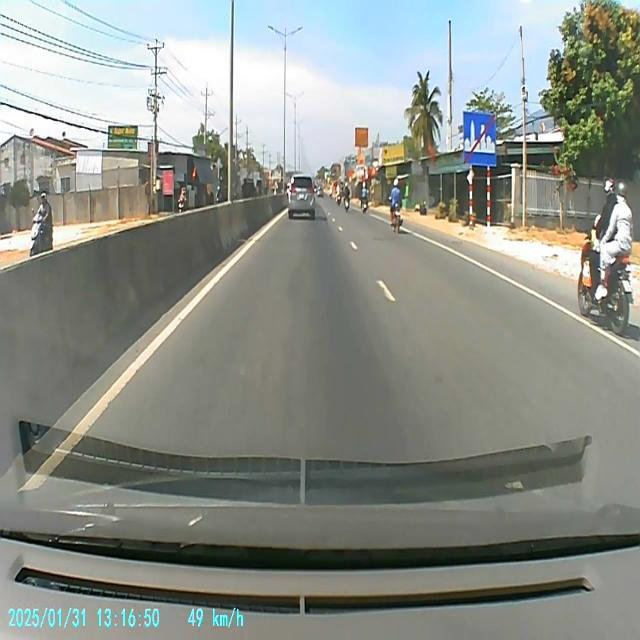421-ket-thuc-khu-dong-dan-cu: (462, 110, 498, 167)
